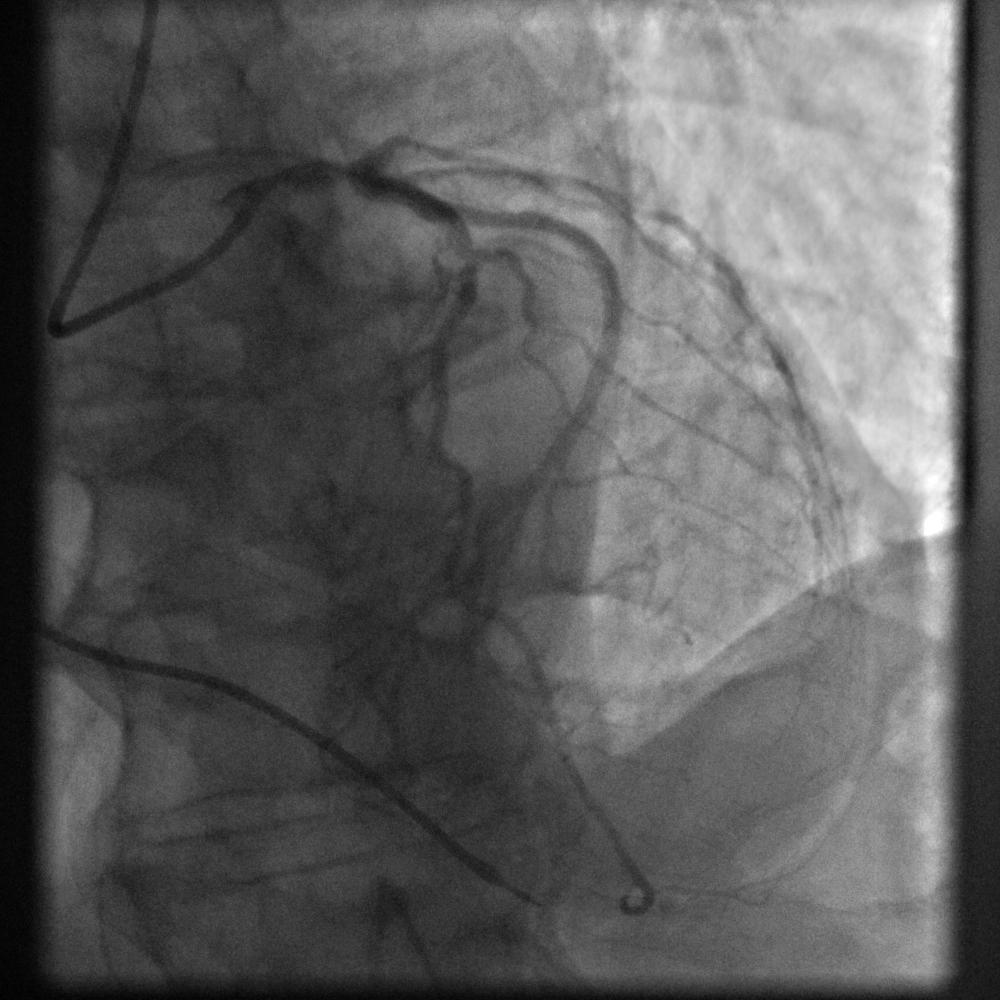Stenosis: (436, 214, 502, 272)
